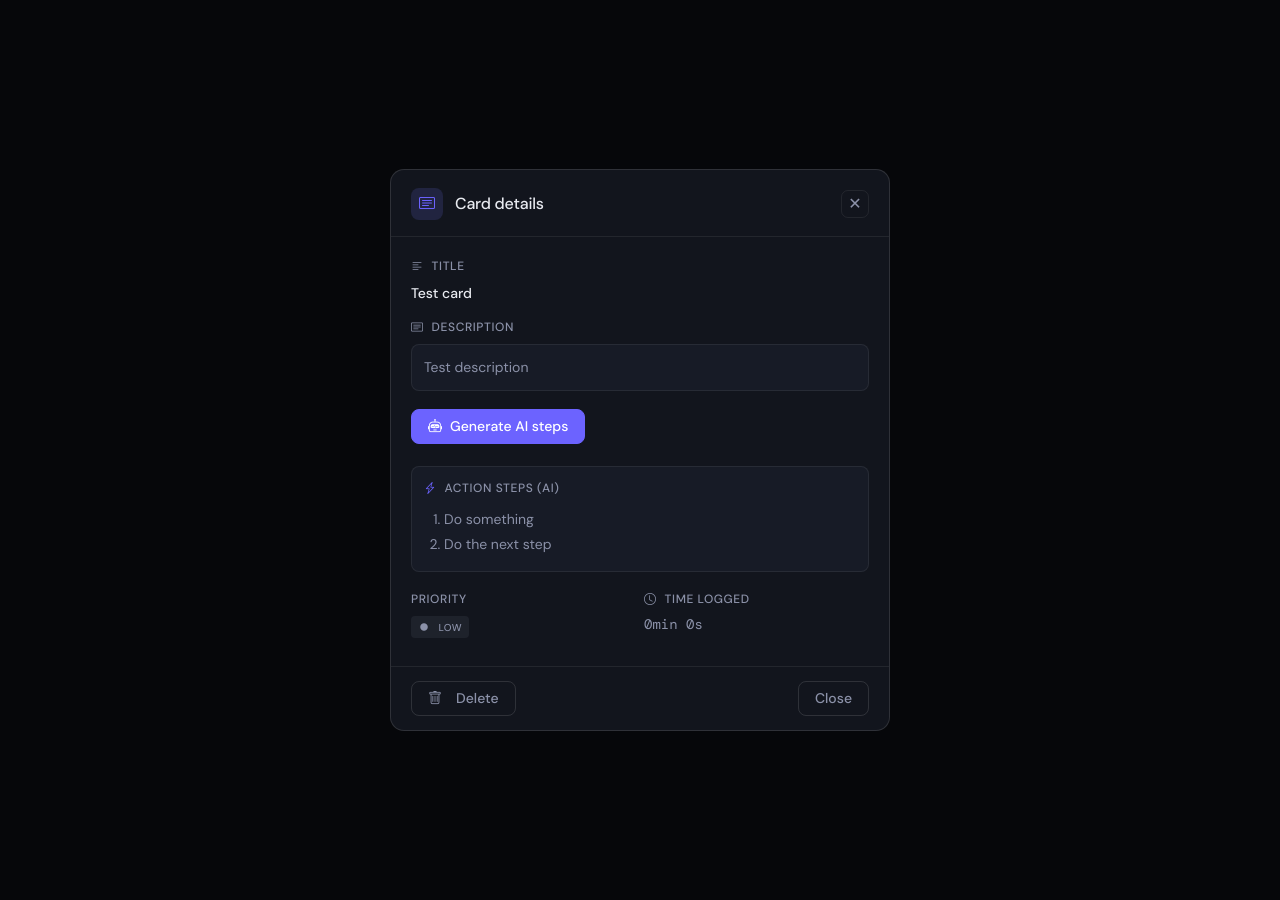
it: TaskModal › shows an error when edge function invocation fails
The image size is (1280, 900).
Step 1. Click the button "Generate AI steps" → (498, 427), box [411,409,585,444]
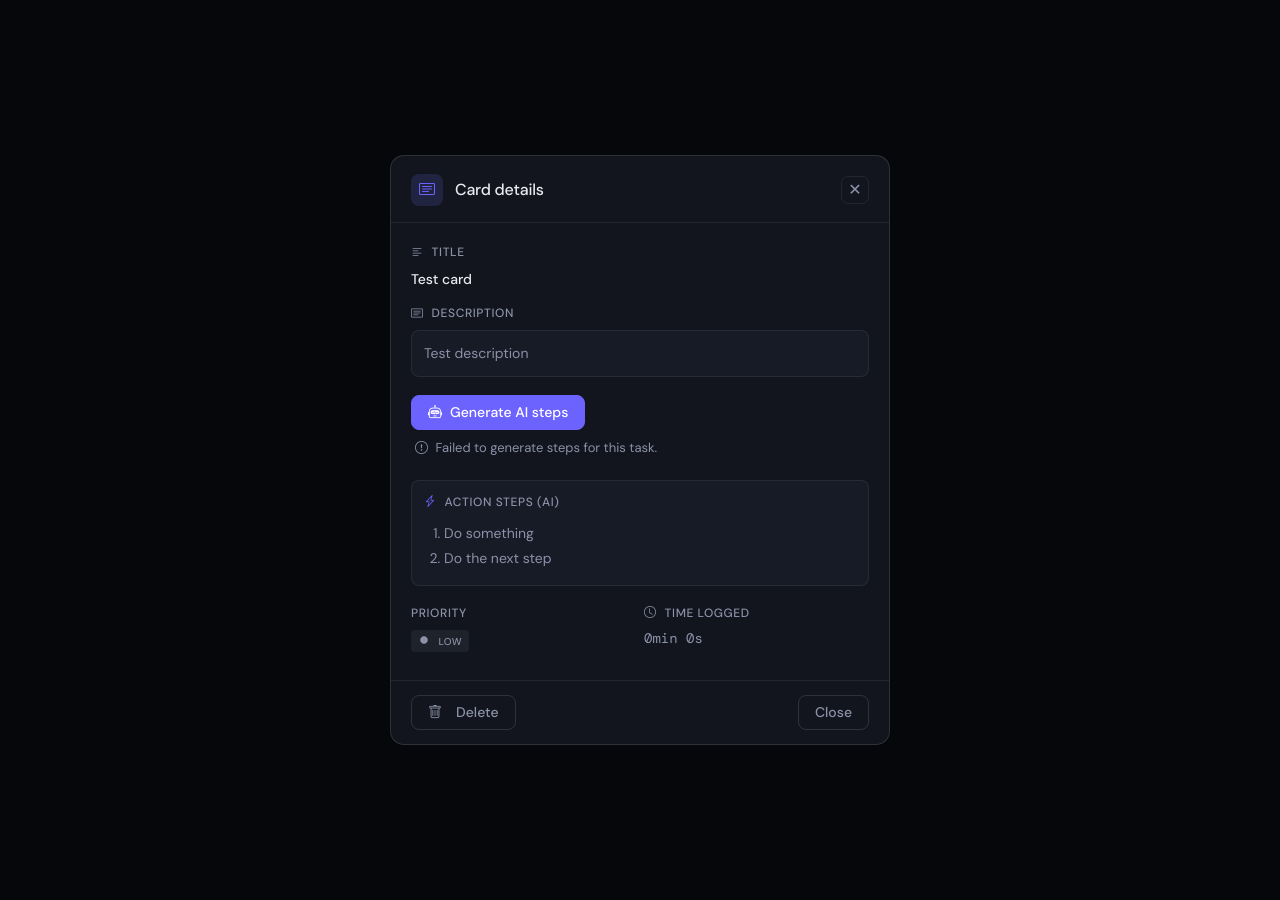
Check: the text "Failed to generate steps for this task." is shown, box [415,439,657,456]
